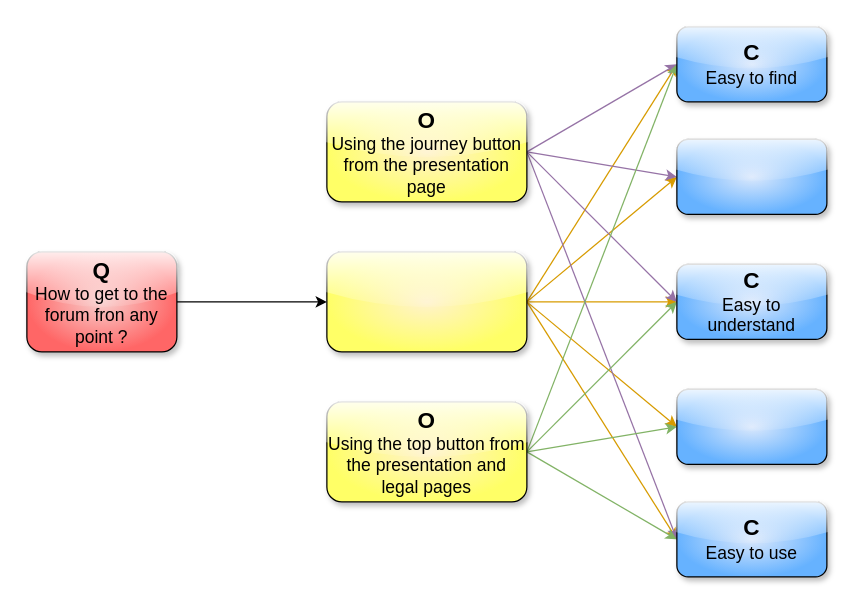
Some shapes in this 856 by 608 pixel diagram are drawn without their labels. The shapes that lost their labels are listed below. From the top down, each one's centre as x and y in pixels, then its label:
At point (752, 178): "C Visably attractive".
At point (427, 303): "O Using the top button from any webpage within the web app".
At point (752, 428): "C Similar placements".
